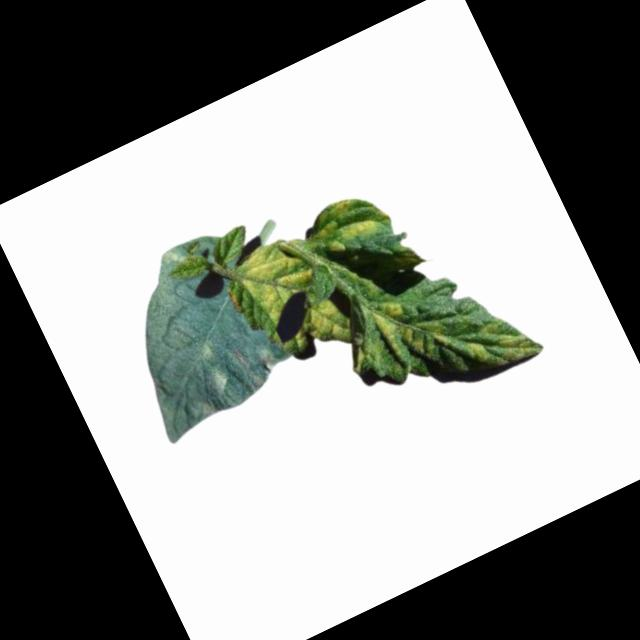Leaf_Mold: (178, 333, 285, 422), (232, 229, 324, 323), (365, 282, 457, 376), (306, 181, 395, 260), (463, 307, 545, 379), (294, 292, 359, 358)
